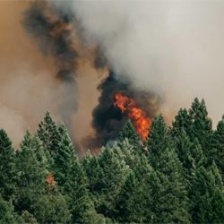fire: (114, 91, 154, 142)
smoke: (1, 1, 171, 90)
